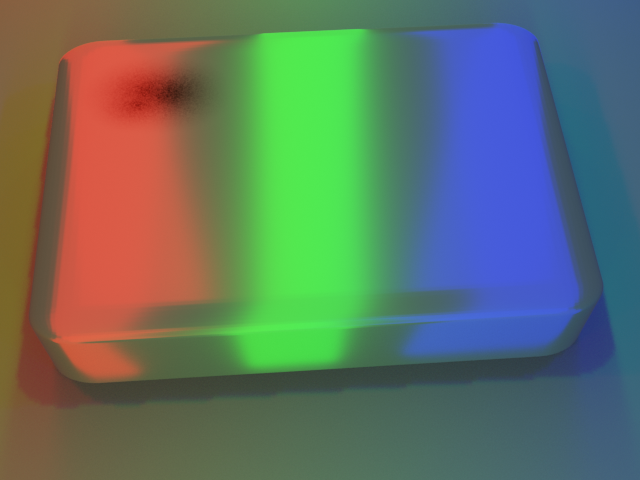stain: (37, 24, 239, 132)
